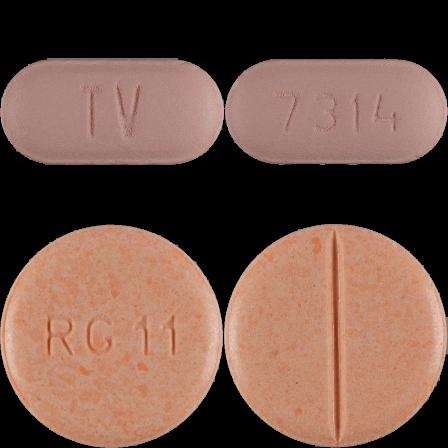53808-1025: (0, 0, 224, 224)
